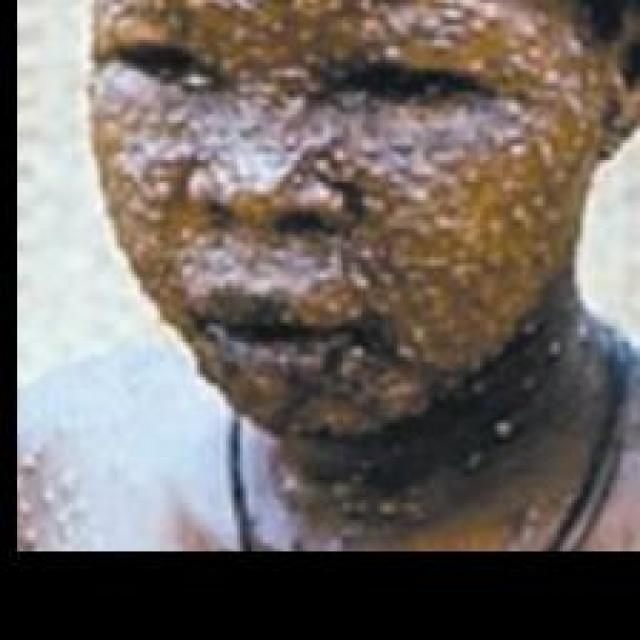monkeypox: (17, 0, 640, 523)
